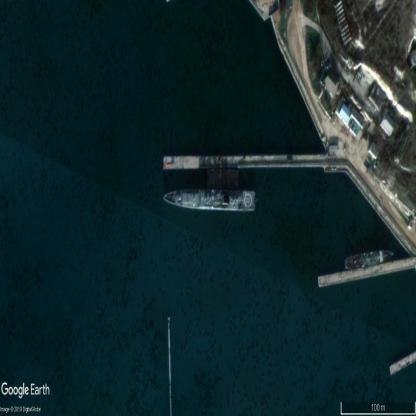ship: (163, 186, 257, 213), (344, 245, 395, 272)
